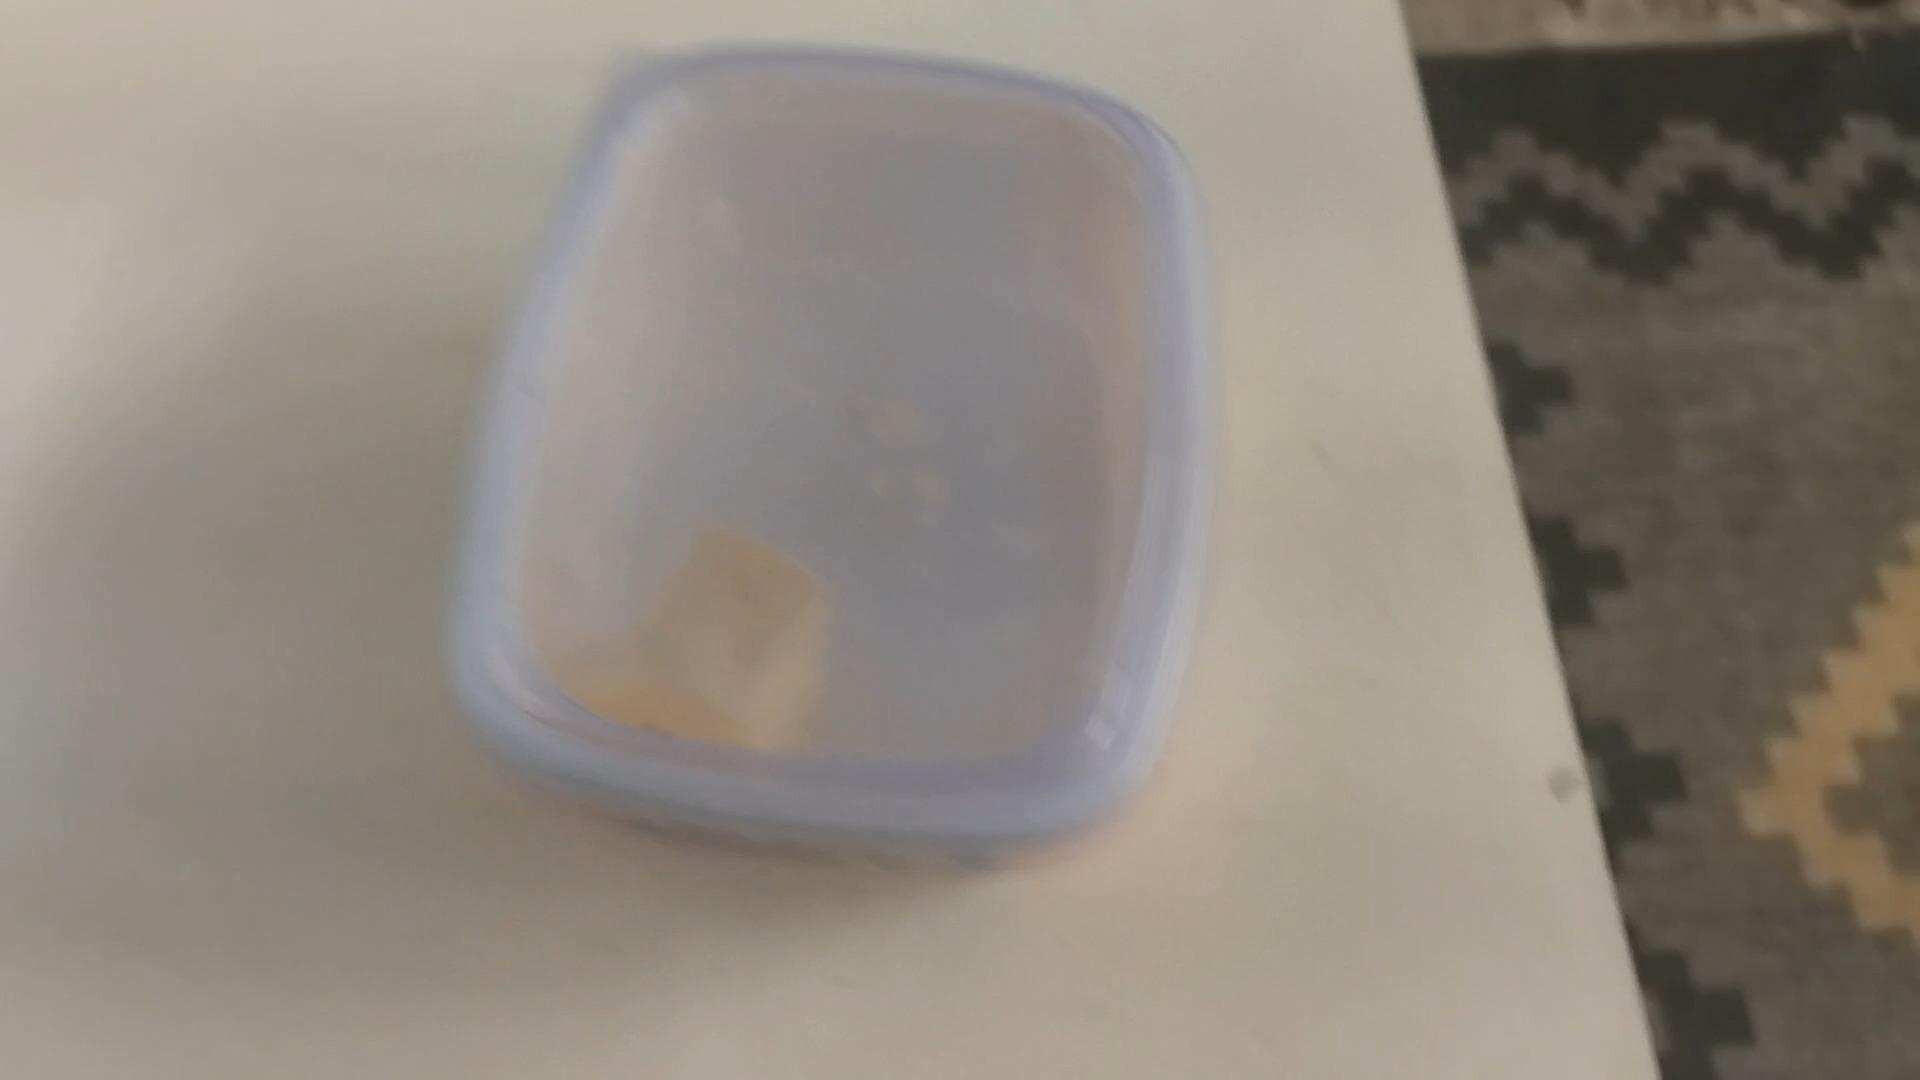butter: (443, 42, 1203, 872)
